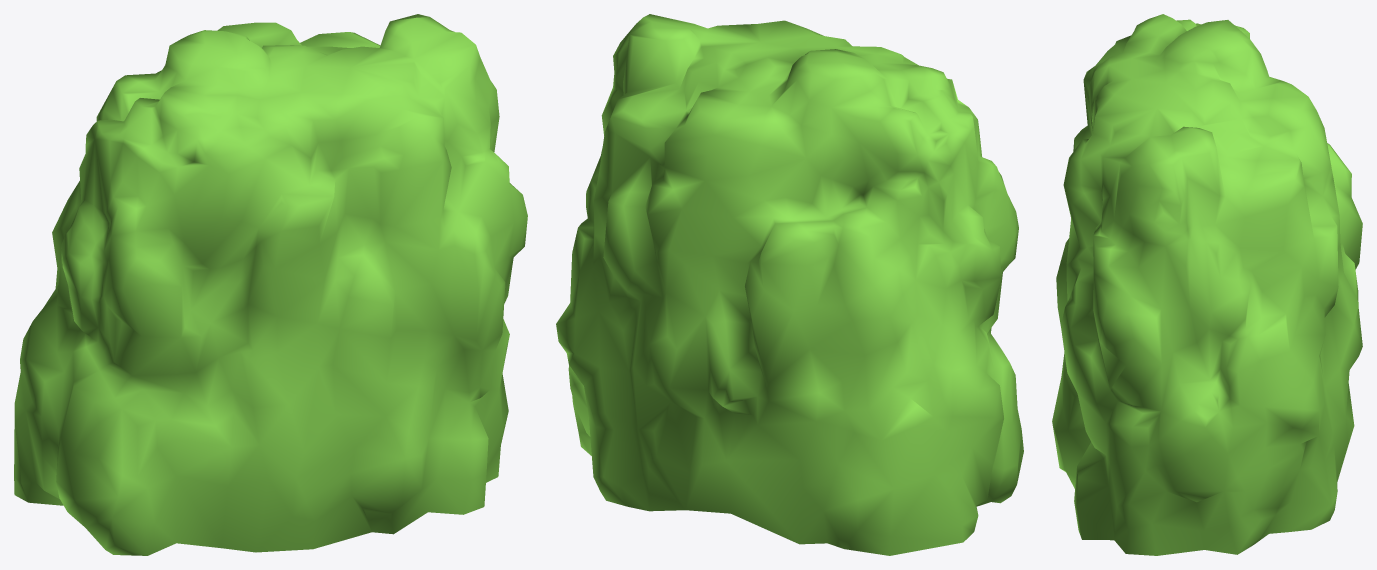
The model's file is rock_04.FBX.
3 renders of one model, left to right at view 1: azimuth 30°, elevation 25°; view 2: azimuth 150°, elevation 25°; view 3: azimuth 270°, elevation 25°, orthographic. The views are drawn at different scales.
Visible parts, largest first — view 1: rock_04; view 2: rock_04; view 3: rock_04.
Part boxes in pixels (<box>): rock_04: <box>14,14,527,555</box>; rock_04: <box>556,14,1023,555</box>; rock_04: <box>1052,14,1362,555</box>.
Size of the model in its own units: 765 by 770 by 512.
